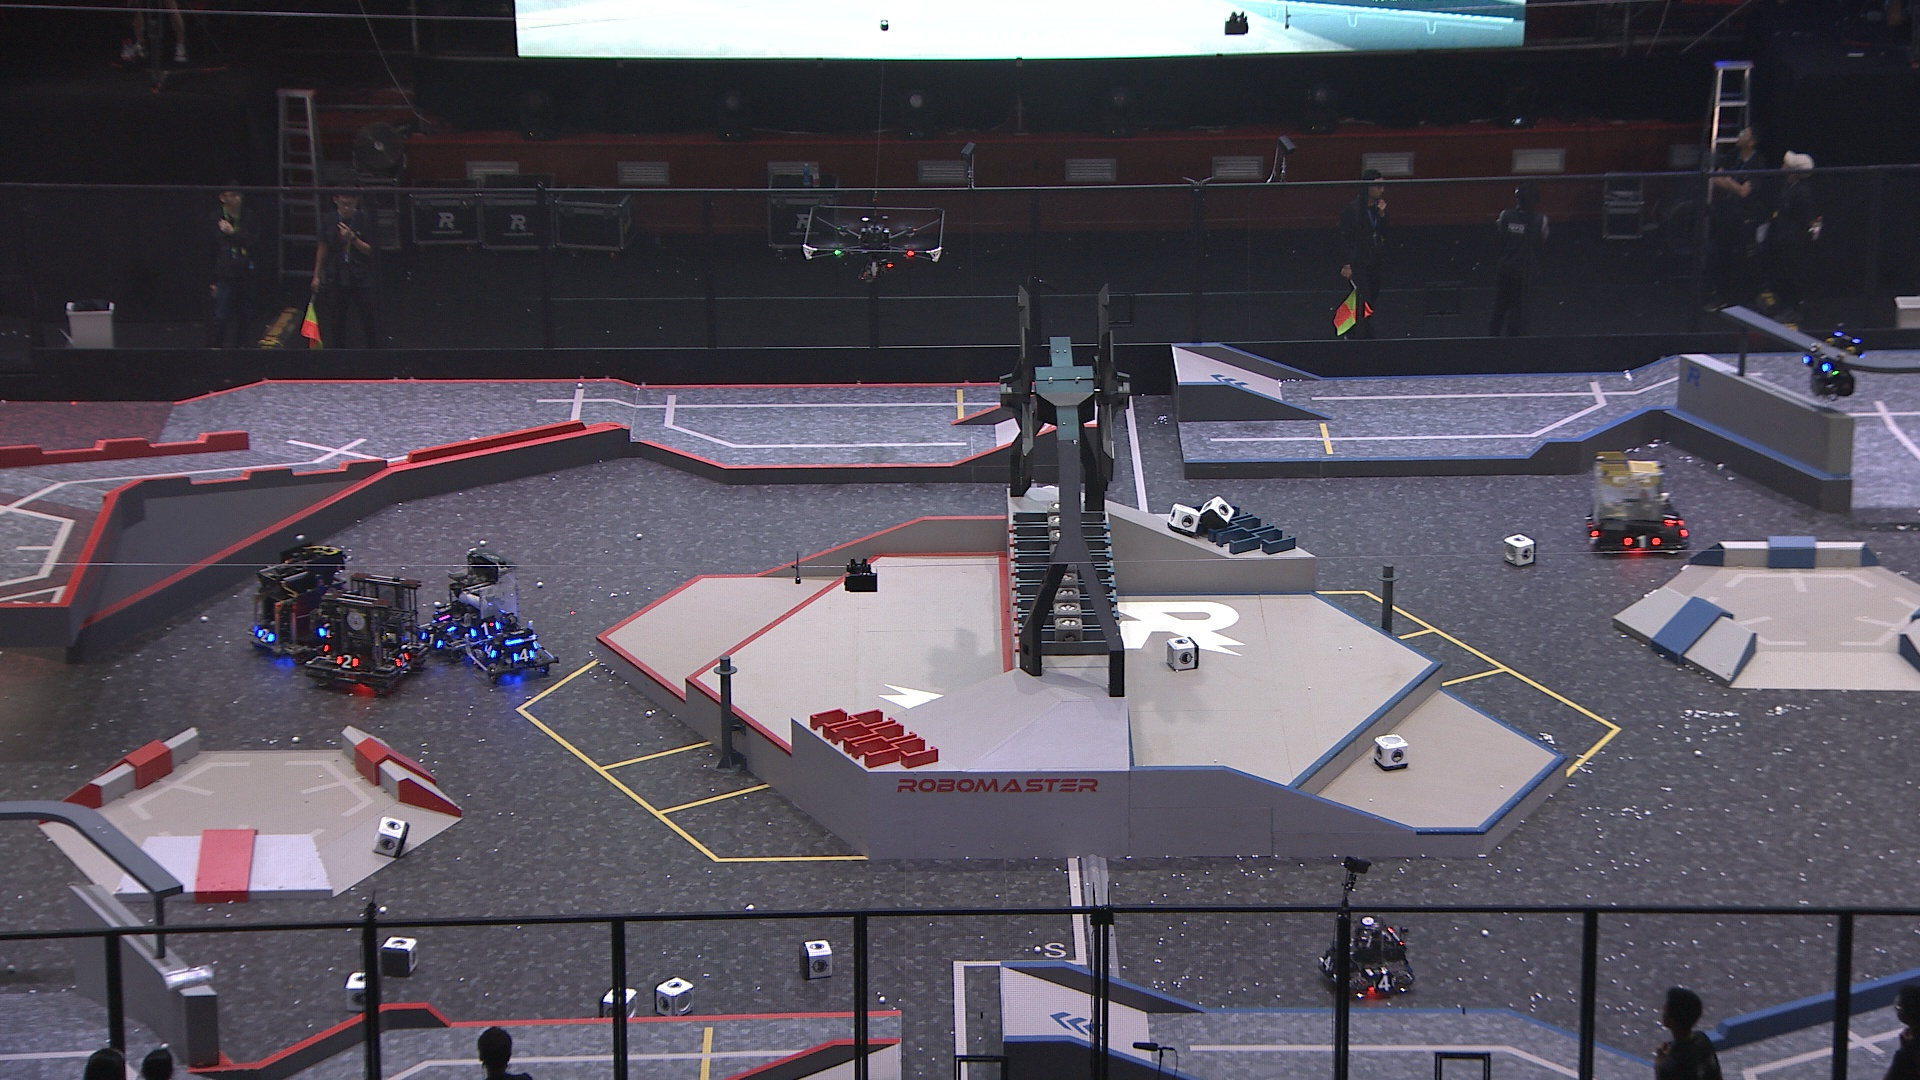armor: (1619, 531, 1662, 549), (465, 621, 502, 640), (1803, 353, 1833, 375), (419, 626, 444, 650), (335, 651, 363, 671), (1371, 975, 1396, 993), (429, 618, 460, 633), (253, 622, 273, 645), (512, 646, 535, 665), (394, 647, 413, 669), (481, 638, 498, 661), (318, 618, 335, 640), (1584, 516, 1600, 537), (1319, 953, 1335, 975), (1660, 506, 1679, 524)
car: (305, 568, 436, 694), (245, 541, 363, 659), (414, 541, 524, 661), (1580, 451, 1693, 556), (1315, 913, 1416, 1000), (462, 608, 564, 680)
watcher: (1797, 323, 1863, 400)
